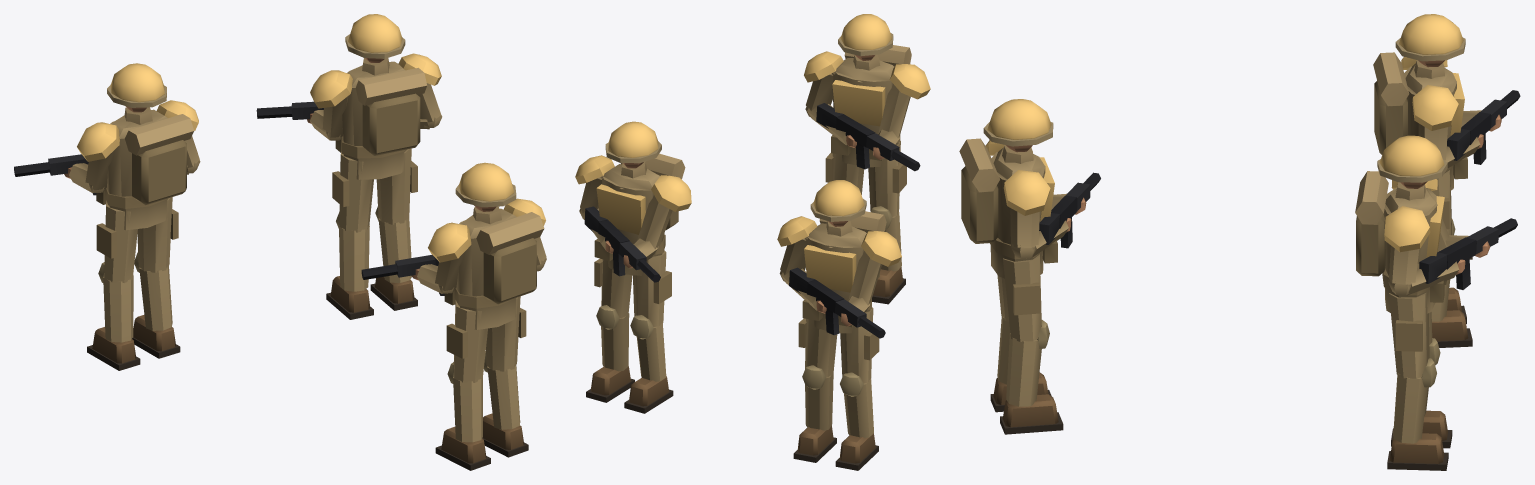
Rendered from rifleman_squad.glb.
The picture shows the model from 3 angles, left to right: view 1: azimuth 30°, elevation 25°; view 2: azimuth 150°, elevation 25°; view 3: azimuth 270°, elevation 25°; orthographic projection. The views are drawn at different scales.
Parts seen in each view (by area): view 1: MilitiaSquad; view 2: MilitiaSquad; view 3: MilitiaSquad.
Part boxes in pixels (x1,y1,x2,y2): MilitiaSquad: (14,14,546,470); MilitiaSquad: (575,14,930,470); MilitiaSquad: (959,14,1520,470).
Bounding box in the file's own units: 2.47 × 1.81 × 2.93.
